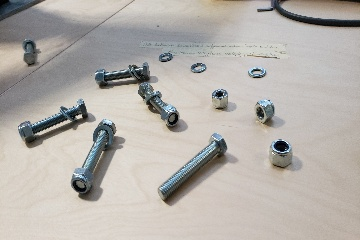Bolt: (156, 132, 229, 200)
FalseAssembly: (68, 118, 120, 195), (16, 99, 87, 145), (21, 35, 42, 69)
FinishedAssembly: (138, 83, 183, 127), (93, 59, 153, 86)
Nut: (268, 138, 296, 169), (254, 100, 275, 123), (211, 88, 230, 109)
Washer: (155, 51, 173, 64), (249, 67, 267, 78), (189, 64, 207, 73)
